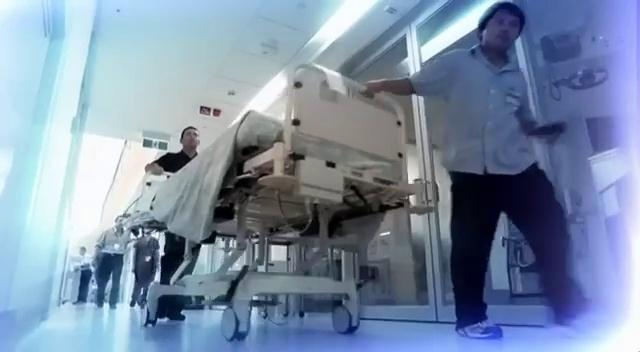others: (362, 1, 590, 339), (91, 214, 132, 309), (144, 125, 200, 175), (128, 226, 161, 309), (72, 245, 94, 307)
